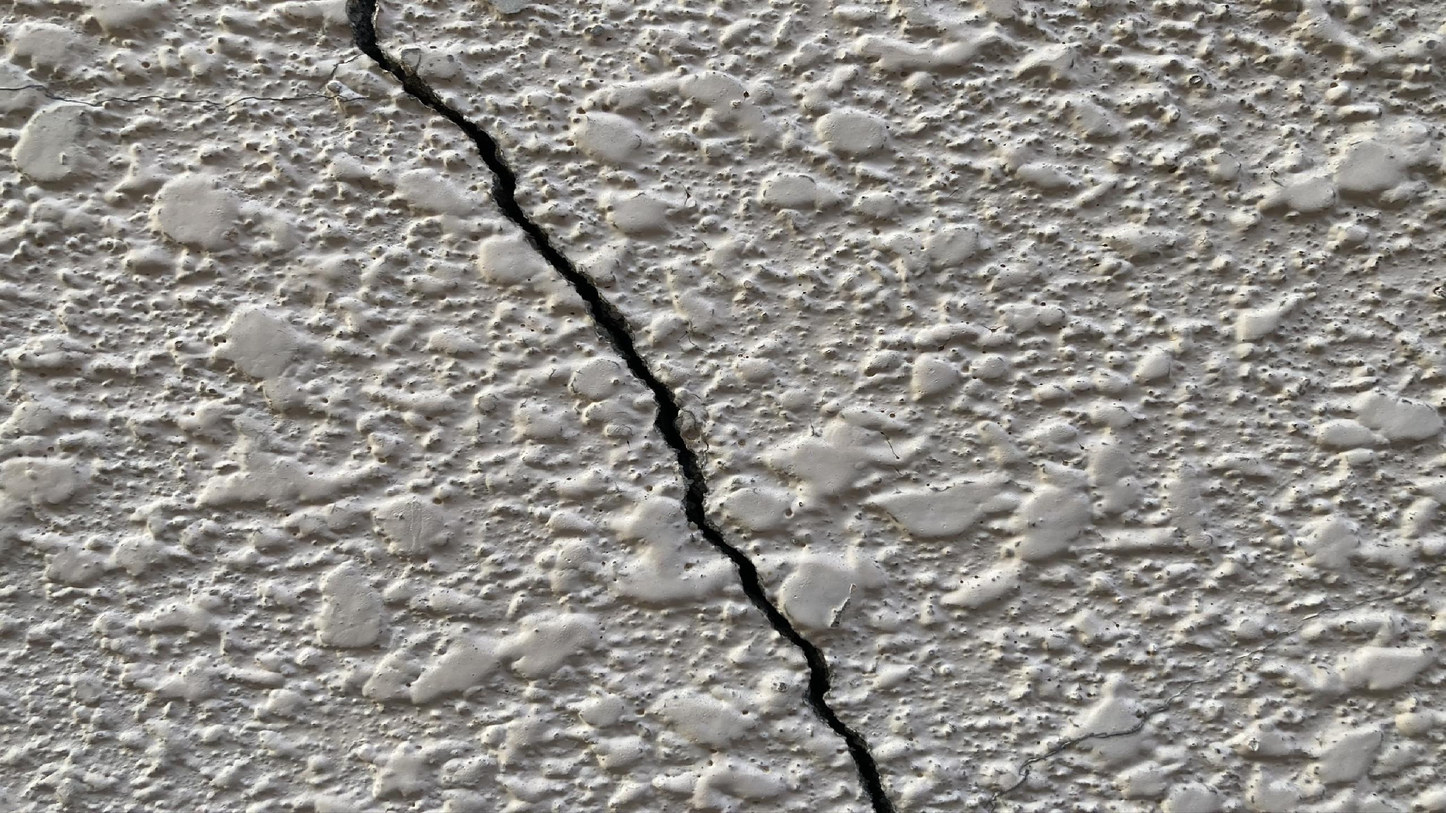crack: (345, 5, 901, 808)
